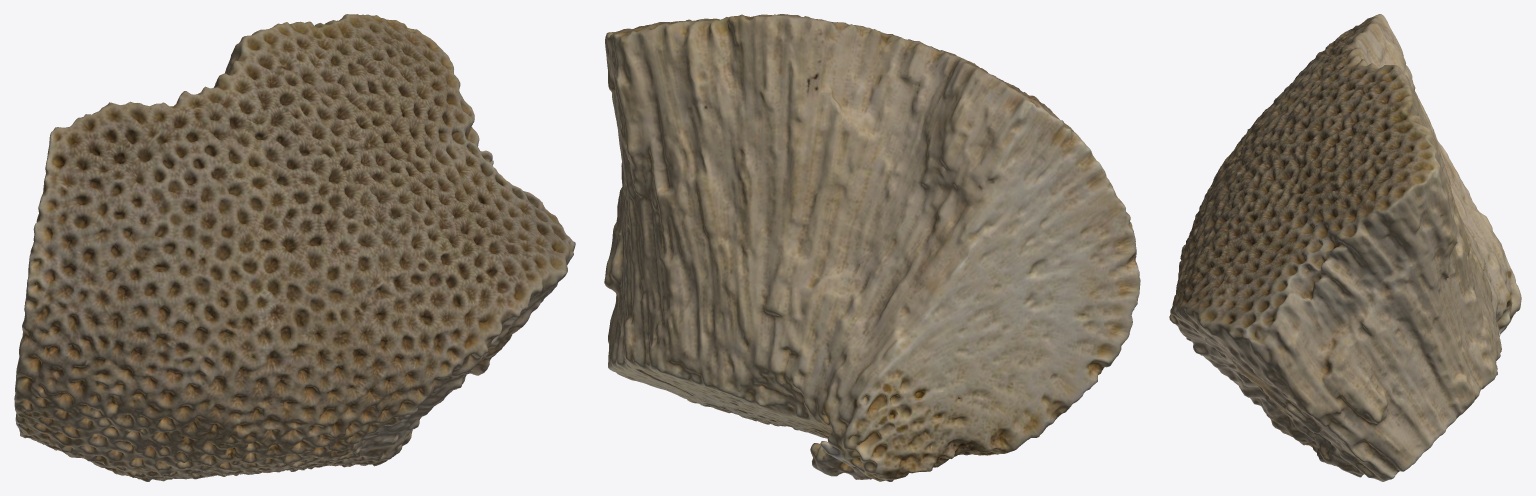
Rendered from plesiastraea-armata.glb.
3 views of the same model, side by side, from view 1: azimuth 30°, elevation 25°; view 2: azimuth 150°, elevation 25°; view 3: azimuth 270°, elevation 25° (orthographic). The views are drawn at different scales.
Bounding box in the file's own units: 0.0846 × 0.0656 × 0.0581.
Materials: 1 (1 with a texture image).
